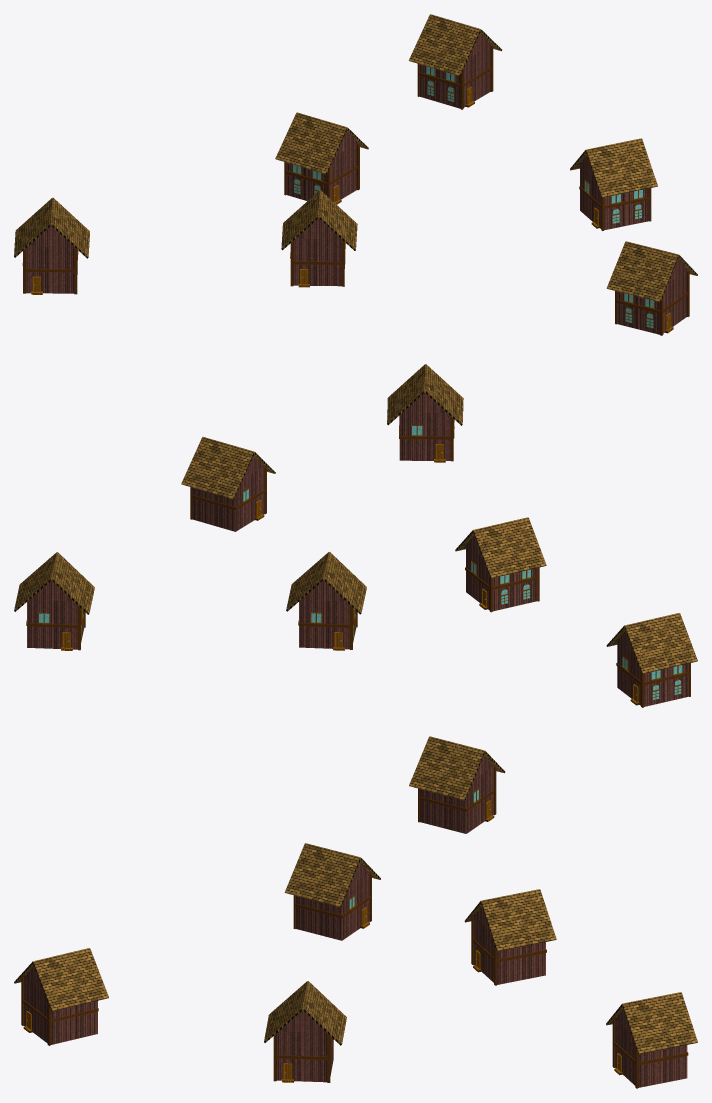
Rendered from CasasAmarillas.fbx.
3 views of the same model, one above another, from view 1: azimuth 30°, elevation 25°; view 2: azimuth 150°, elevation 25°; view 3: azimuth 270°, elevation 25° (orthographic). The views are drawn at different scales.
Visible parts, largest first — view 1: Amarillo; view 2: Amarillo; view 3: Amarillo.
Part boxes in pixels (x1,y1,x2,y2): Amarillo: [14, 14, 697, 335]; Amarillo: [14, 364, 697, 707]; Amarillo: [14, 736, 697, 1088].
Size of the model in its own units: 5095 by 603 by 4968.
